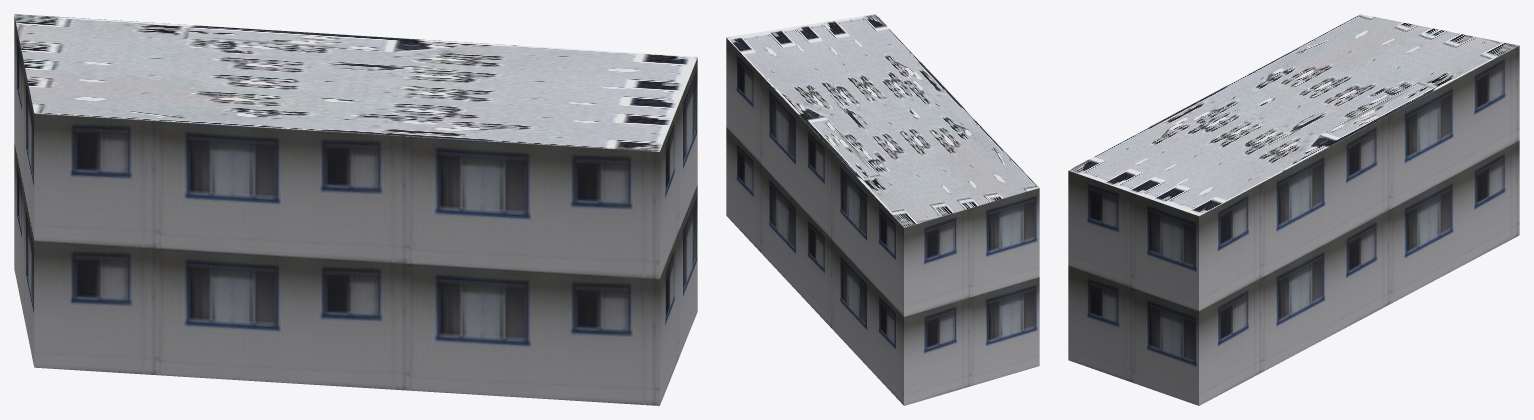
File: ResTex__821.fbx
3 renders of one model, left to right at view 1: azimuth 30°, elevation 25°; view 2: azimuth 150°, elevation 25°; view 3: azimuth 270°, elevation 25°, orthographic. The views are drawn at different scales.
Visible parts, largest first — view 1: CityEngineMaterial_9_m, CityEngineMaterial_m; view 2: CityEngineMaterial_9_m, CityEngineMaterial_m; view 3: CityEngineMaterial_9_m, CityEngineMaterial_m.
Boxes of the visible parts, box(x1,y1,x2,y2) form: CityEngineMaterial_9_m: box(14, 16, 697, 405); CityEngineMaterial_m: box(14, 14, 697, 151); CityEngineMaterial_9_m: box(726, 38, 1039, 405); CityEngineMaterial_m: box(726, 14, 1039, 227); CityEngineMaterial_9_m: box(1068, 46, 1519, 405); CityEngineMaterial_m: box(1068, 14, 1519, 215).
Size of the model in its own units: 13.72 by 6 by 12.94.
2 materials, 2 textured.
